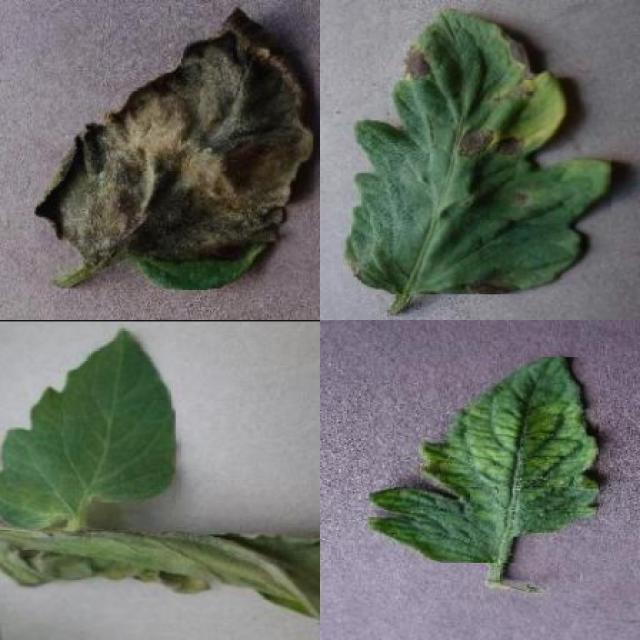Early Blight: (344, 8, 612, 295)
Healthy: (0, 327, 176, 530)
Late Blight: (35, 3, 315, 288), (0, 531, 320, 623)
Mosaic Virus: (368, 357, 598, 563)
